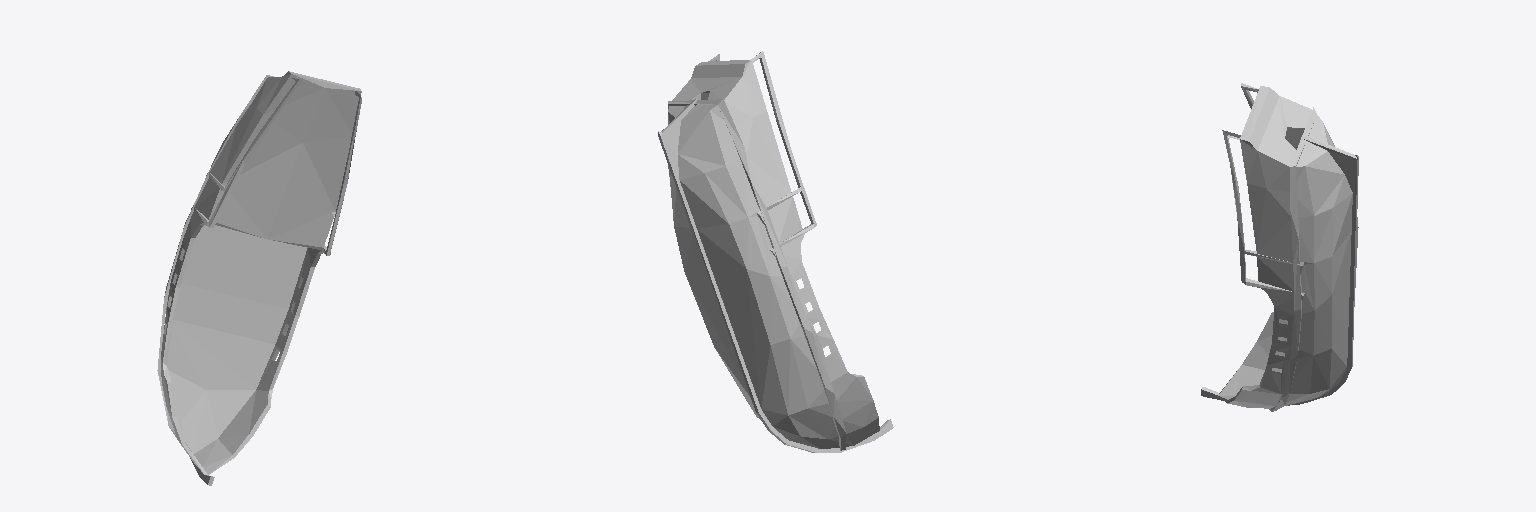
The model's file is ship.obj.
The picture shows the model from 3 angles: view 1: azimuth 30°, elevation 25°; view 2: azimuth 150°, elevation 25°; view 3: azimuth 270°, elevation 25°; orthographic projection.
Bounding box in the file's own units: 17.7 × 33.01 × 12.79.